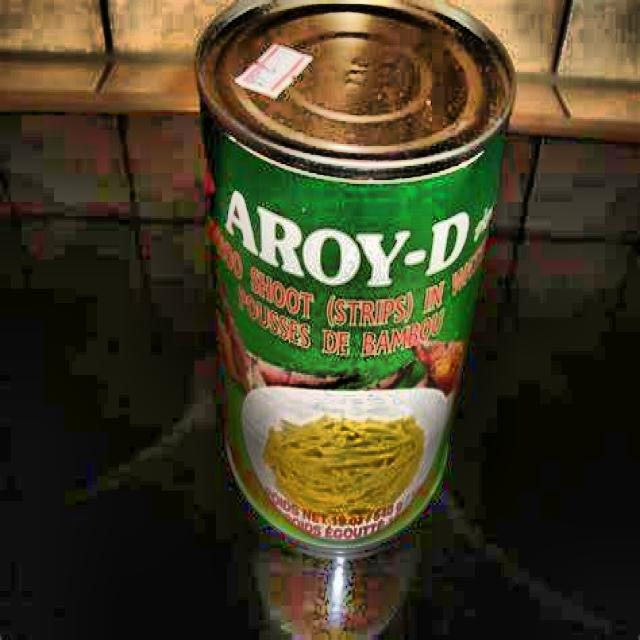Cans: (190, 0, 506, 557)
